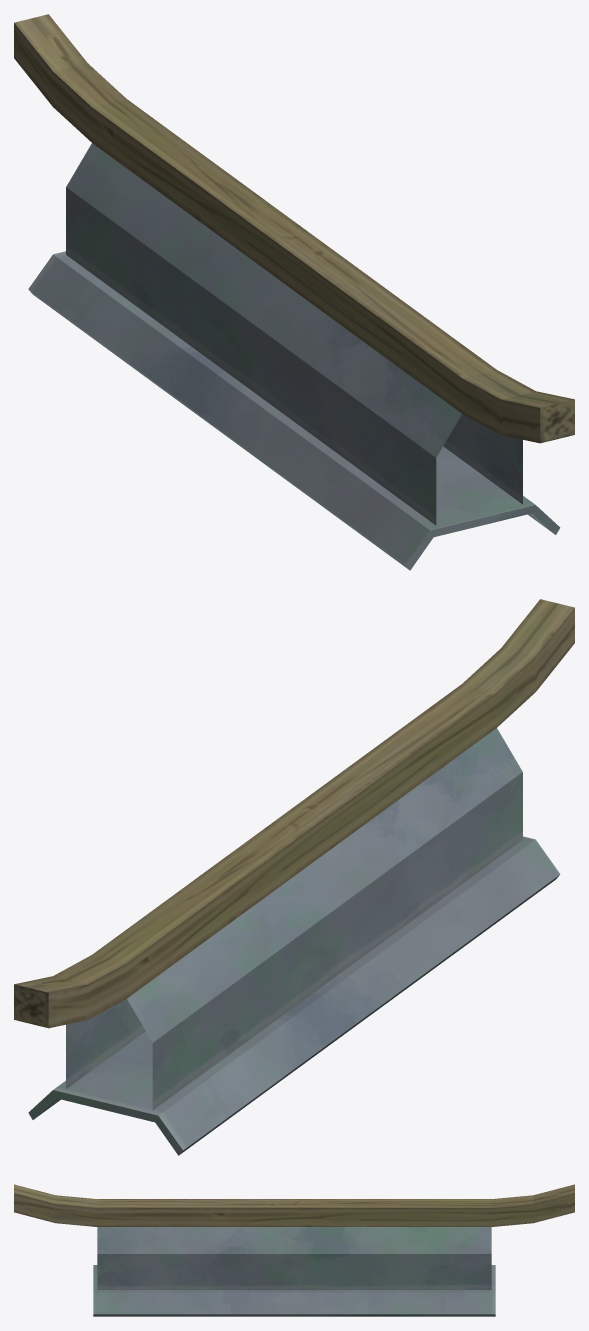
The model's file is SM_Stone_Rooftop1.fbx.
3 renders of one model, top to bottom at view 1: azimuth 30°, elevation 25°; view 2: azimuth 150°, elevation 25°; view 3: azimuth 270°, elevation 25°, orthographic. The views are drawn at different scales.
Parts seen in each view (by area): view 1: Stone_Rooftop; view 2: Stone_Rooftop; view 3: Stone_Rooftop.
Part boxes in pixels (x1,y1,x2,y2): Stone_Rooftop: (14, 14, 574, 570); Stone_Rooftop: (14, 599, 574, 1155); Stone_Rooftop: (14, 1184, 574, 1316).
Bounding box in the file's own units: 0.1787 × 0.2249 × 1.05.
